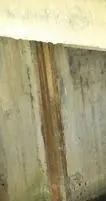Corrosion: (28, 39, 71, 201)
